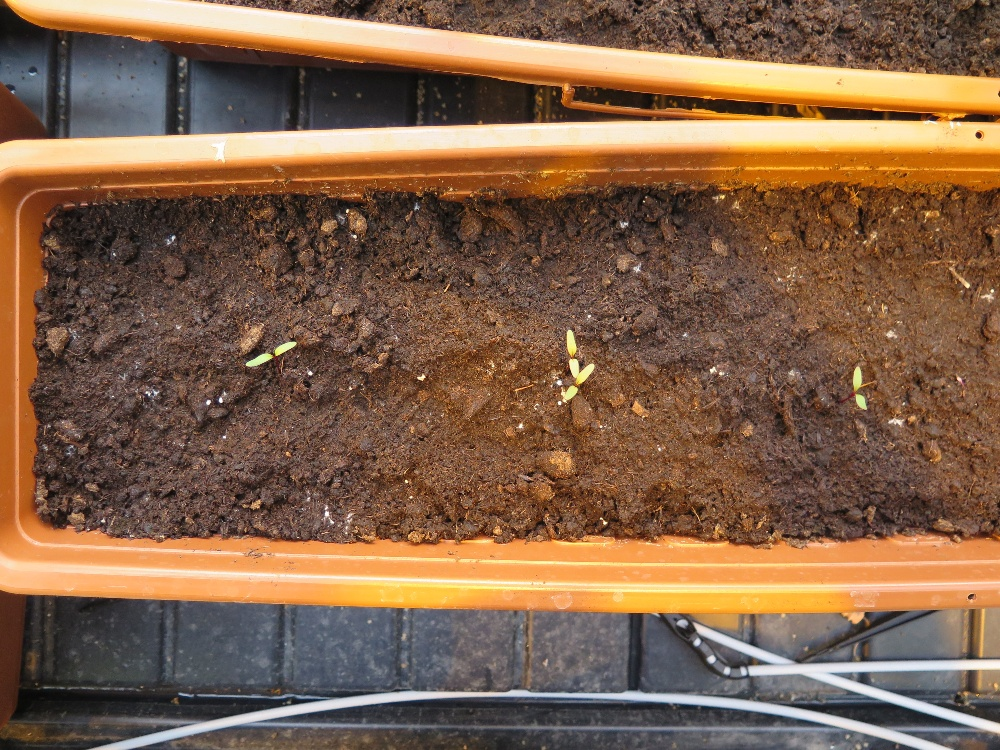crop: (244, 338, 297, 368), (566, 363, 595, 403), (851, 364, 868, 414), (562, 326, 579, 375)
